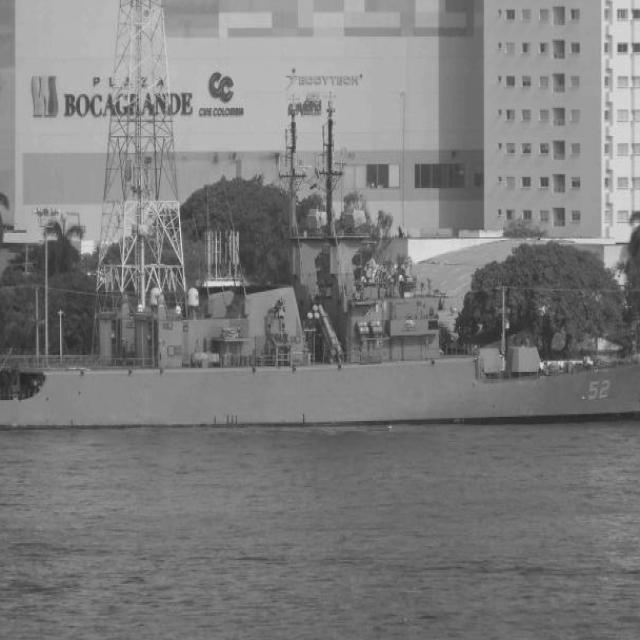Fragata: (1, 82, 640, 436)
